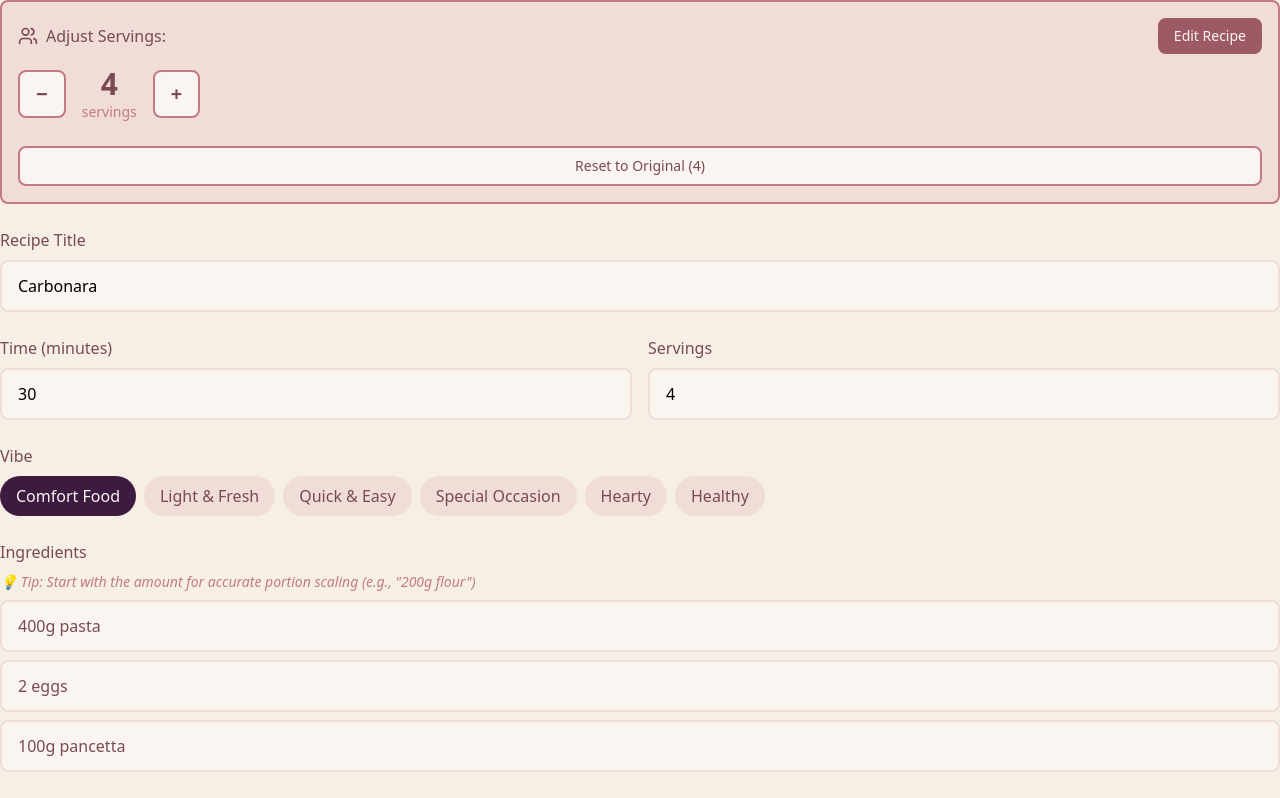
portion calculator › should increase serving count when + is clicked
This screenshot has width=1280, height=798.
Click the button "+".
click(177, 94)  # box [153,70,200,118]
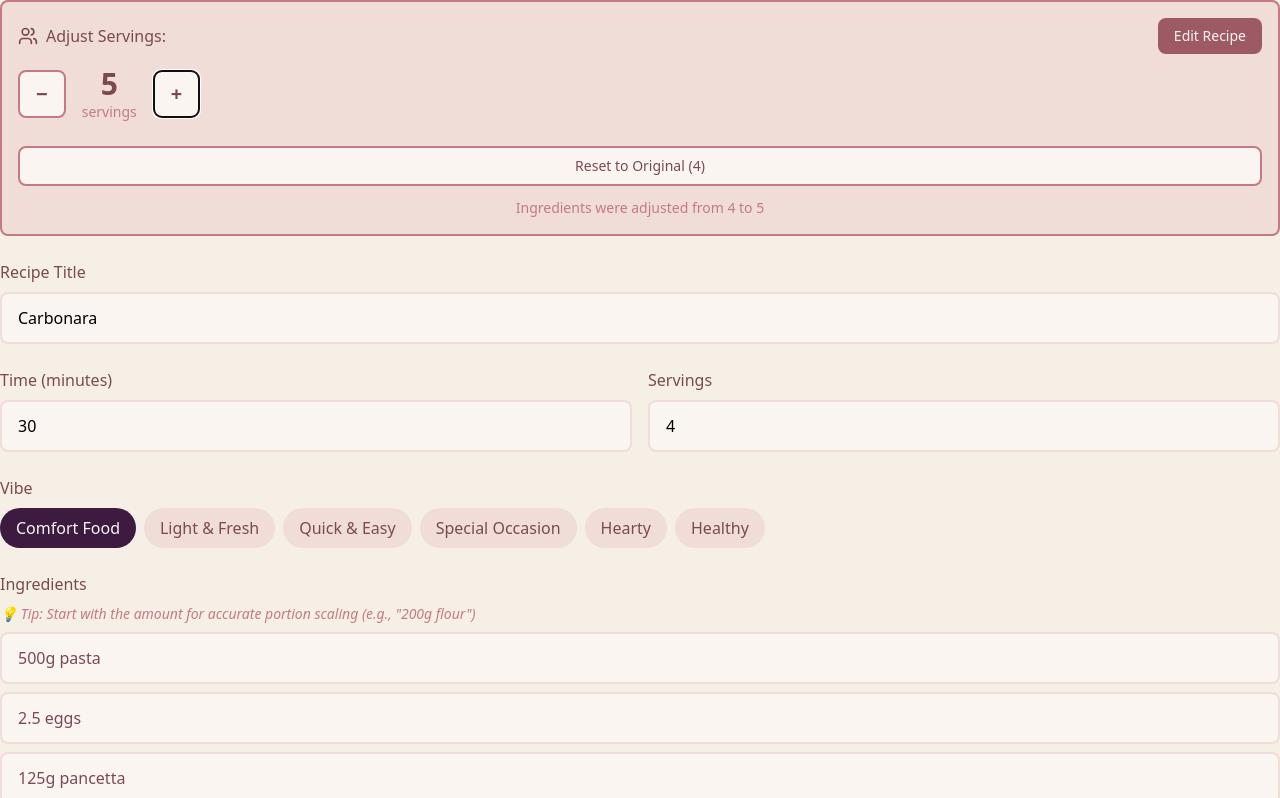
Now the text "5" is shown, box [101,63,118,104]
